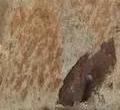Corrosion: (55, 36, 117, 108)
